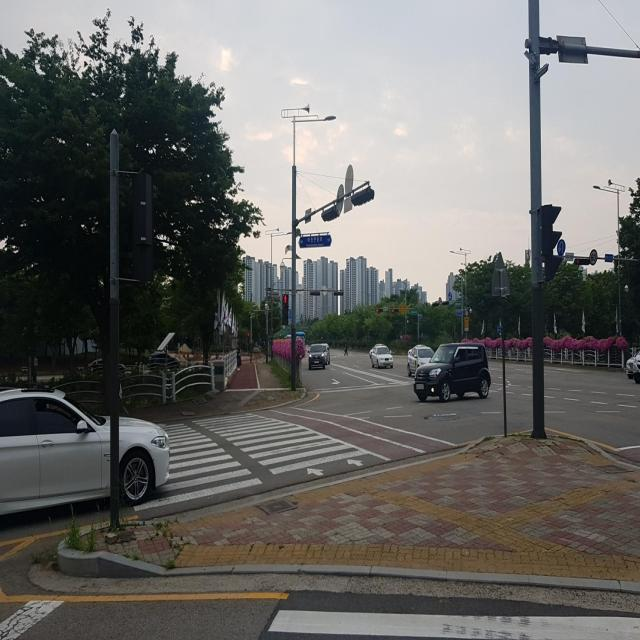빨간불: (282, 293, 289, 326)
횡단보도: (119, 406, 368, 517)
